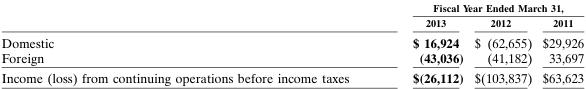table: (0, 1, 583, 85)
table column: (0, 1, 380, 85), (380, 1, 468, 85), (468, 1, 536, 85), (536, 1, 583, 85)
table column header: (0, 1, 583, 31)
table row: (0, 31, 583, 49), (0, 49, 583, 67), (0, 67, 583, 85), (0, 14, 583, 31), (0, 1, 583, 14)
table spanning cell: (380, 1, 583, 14)
